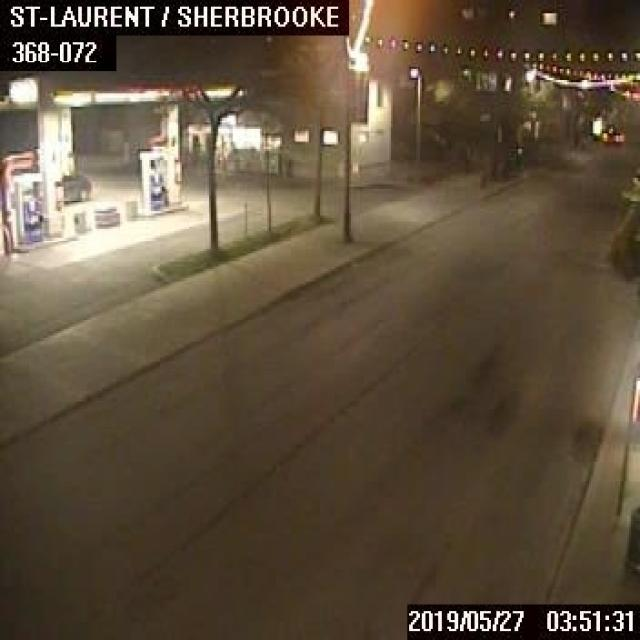vehicle: (59, 171, 89, 199), (598, 121, 622, 142)
